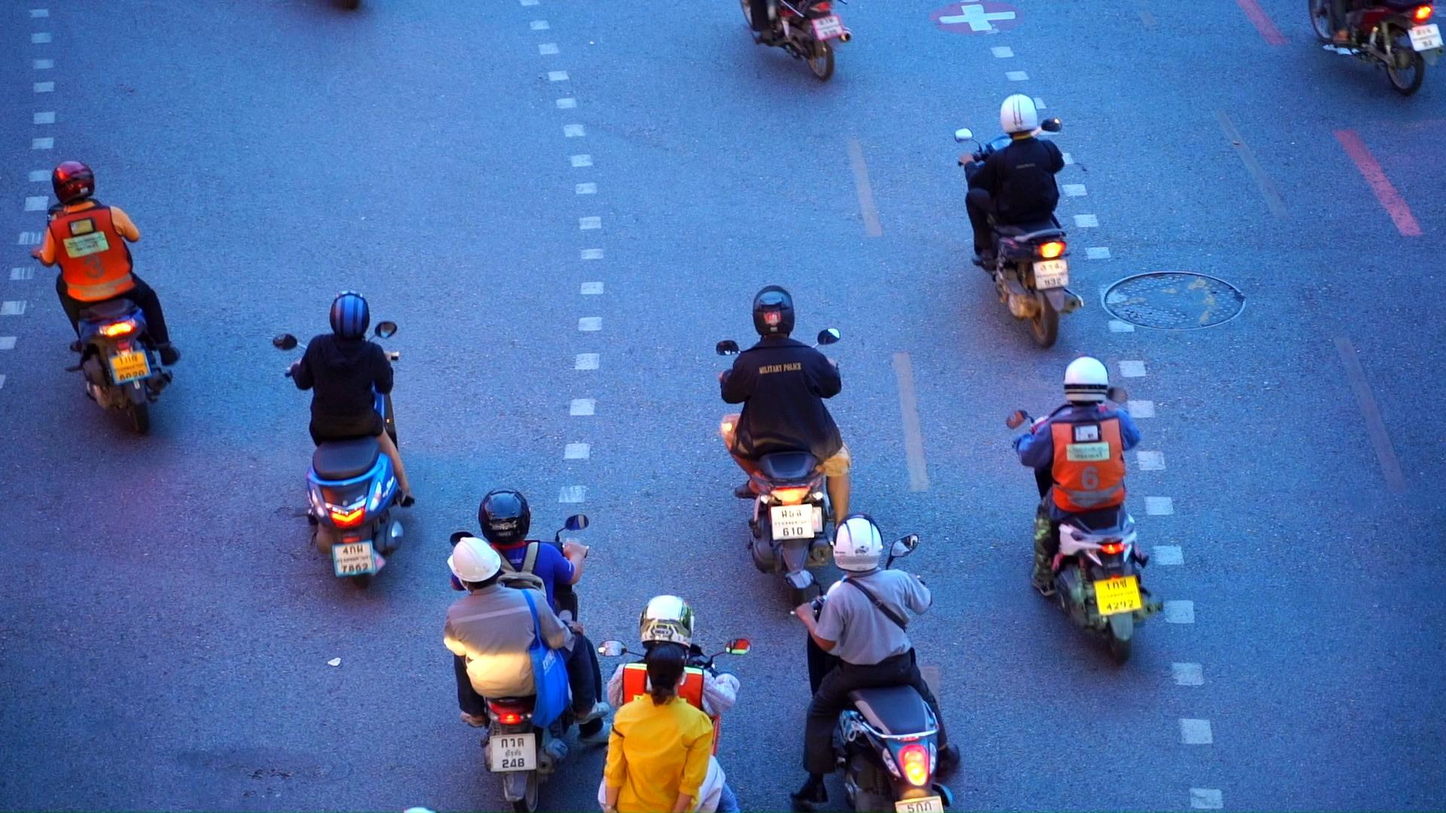driver: (444, 486, 614, 813), (783, 513, 960, 813), (1005, 351, 1165, 666), (716, 285, 851, 609), (274, 289, 414, 591), (31, 160, 181, 434), (955, 91, 1086, 349), (597, 595, 752, 813), (1308, 0, 1444, 97), (739, 0, 853, 82)
helmet: (638, 595, 694, 660), (447, 536, 502, 596), (478, 486, 530, 546), (832, 513, 884, 573), (1063, 351, 1109, 408), (752, 285, 795, 342), (329, 289, 370, 342), (51, 160, 95, 209), (999, 91, 1038, 139)
no-helmet: (646, 642, 687, 706)
